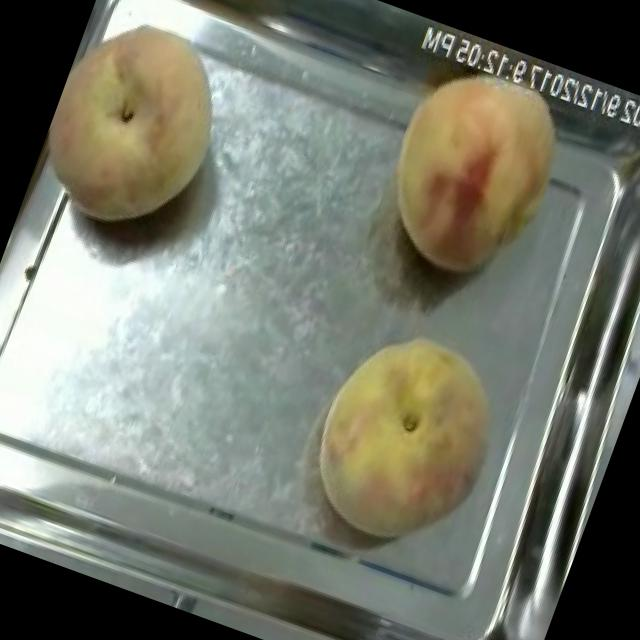Fruit: (351, 28, 600, 308), (285, 302, 533, 574), (23, 0, 256, 258)
